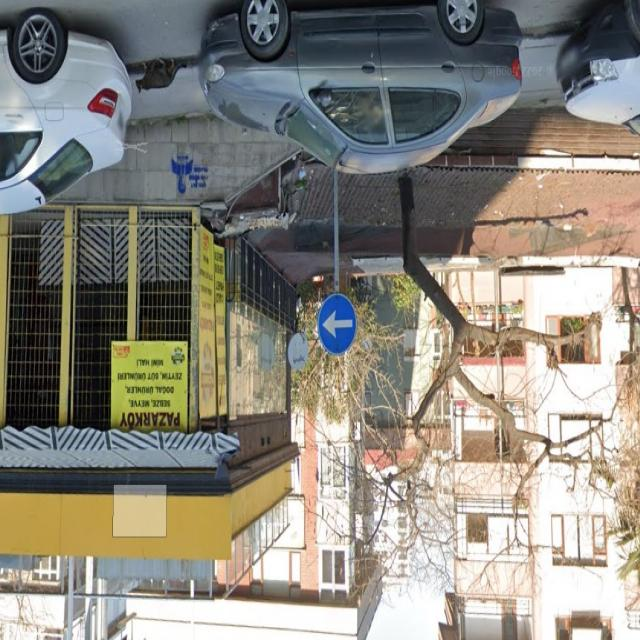Turn Left: (318, 290, 360, 362)
